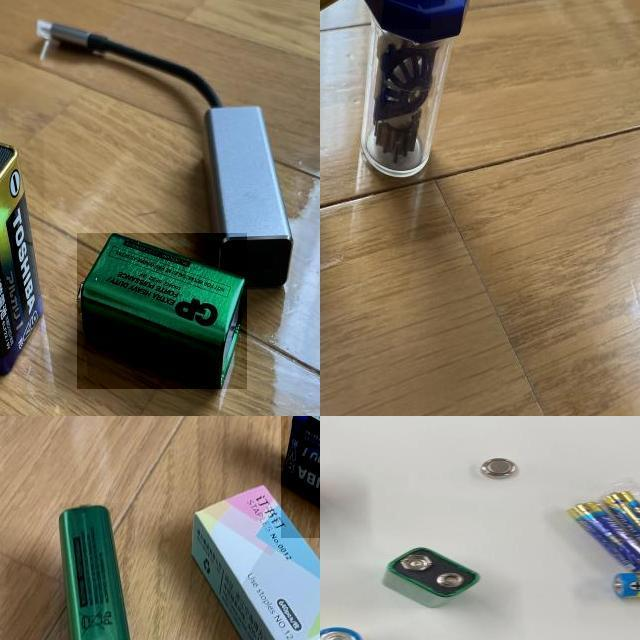9V: (77, 233, 247, 389), (0, 134, 44, 375), (59, 503, 135, 640), (382, 547, 480, 609), (281, 416, 320, 538)
